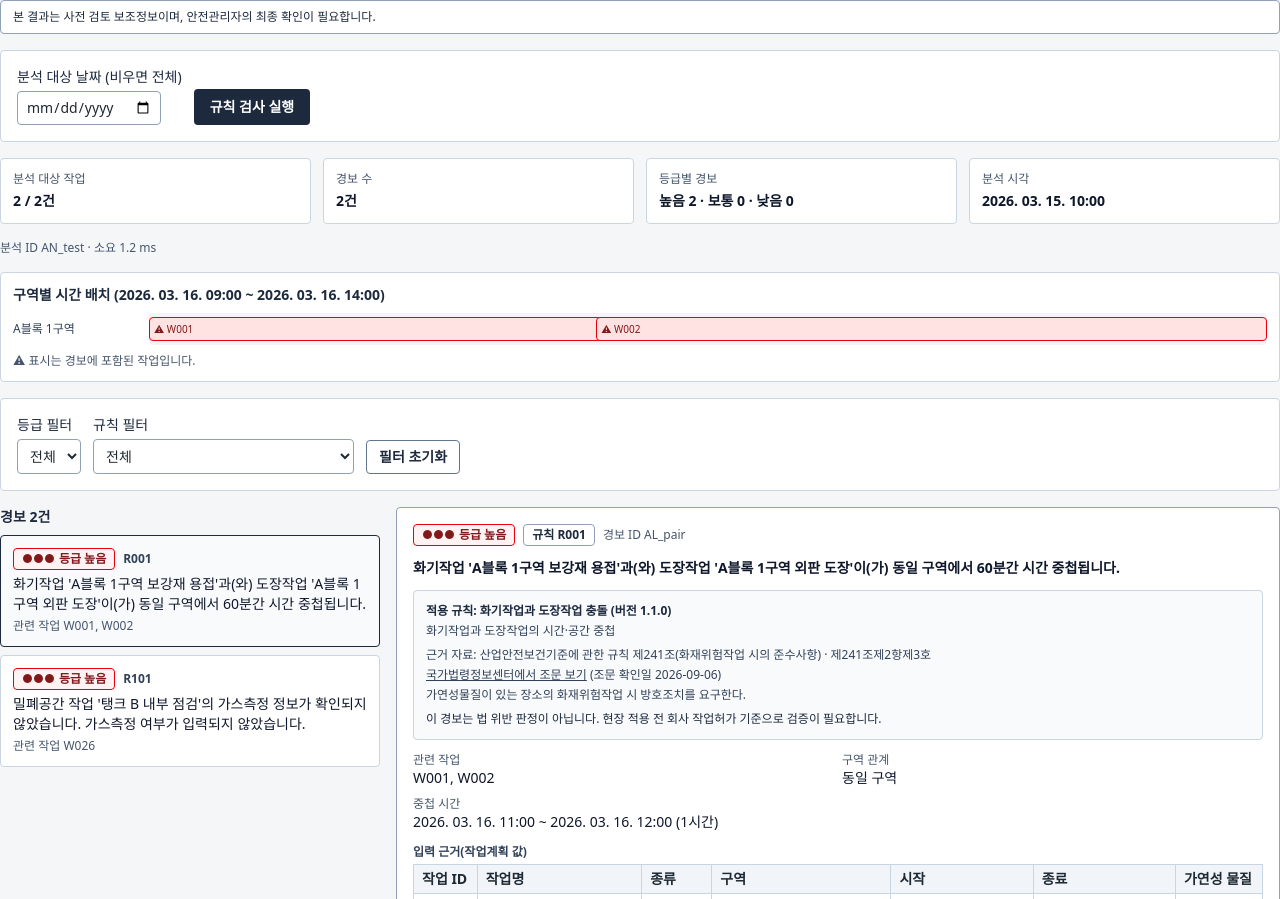
분석 결과 화면 › 단일 작업 경보에는 시간 변경안을 제공하지 않는다
The image size is (1280, 899).
Click the button "R101". click: (190, 711)
box: [0, 655, 380, 767]
(page scrolled)
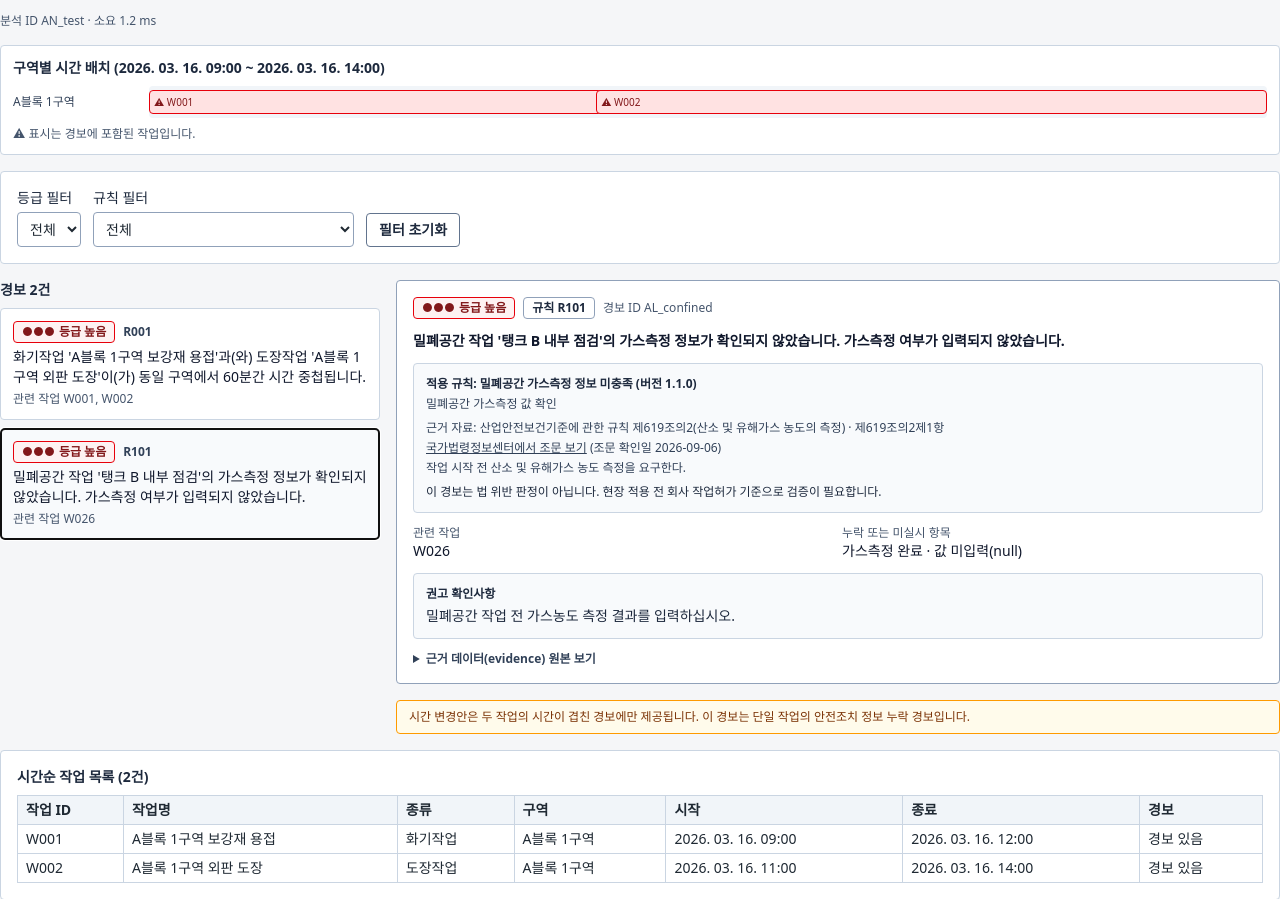
Expected: the text "가스측정 완료 · 값 미입력(null)" is shown, [842, 541, 1022, 560]
Expected: the text "두 작업의 시간이 겹친 경보에만 제공됩니다" is shown, [409, 708, 970, 725]
